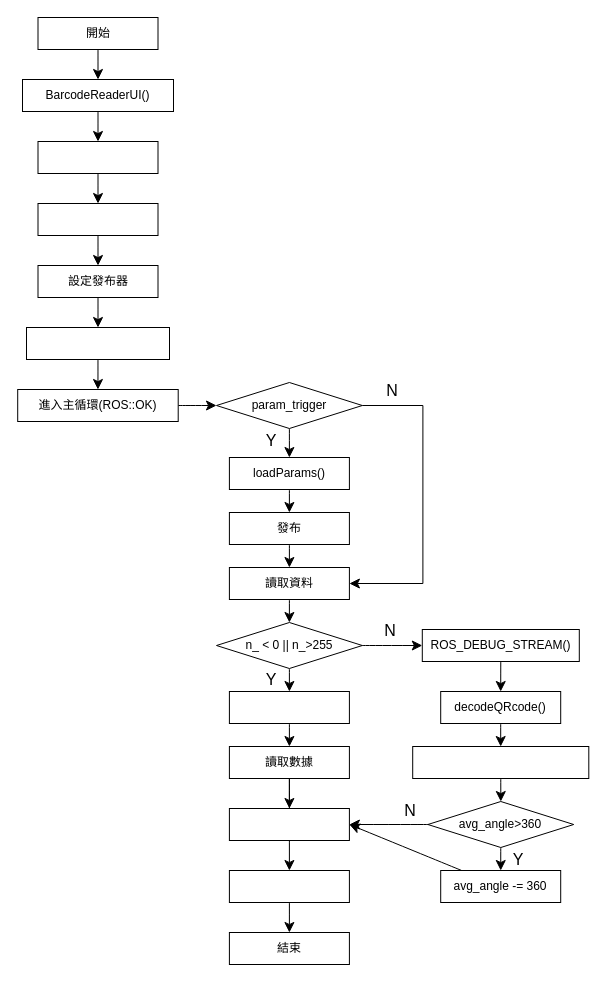
The diagram is 607 pixels wide and 982 high, and some of its shapes have lost their labels. The shapes that lost their labels are listed below. From the top down, each one's box as (x1, y1, x2, y2) in pixels, then its label:
(37, 140, 158, 174): 載入YAML檔
(37, 202, 158, 236): 設定訂閱器
(26, 326, 170, 360): 連接指定IP地址＆端口
(228, 690, 349, 724): handleError()
(412, 746, 589, 778): avg_angle= avg_angle+w_offset_param
(228, 808, 349, 840): 計算位置＆角度
(228, 870, 349, 902): 發布數據
